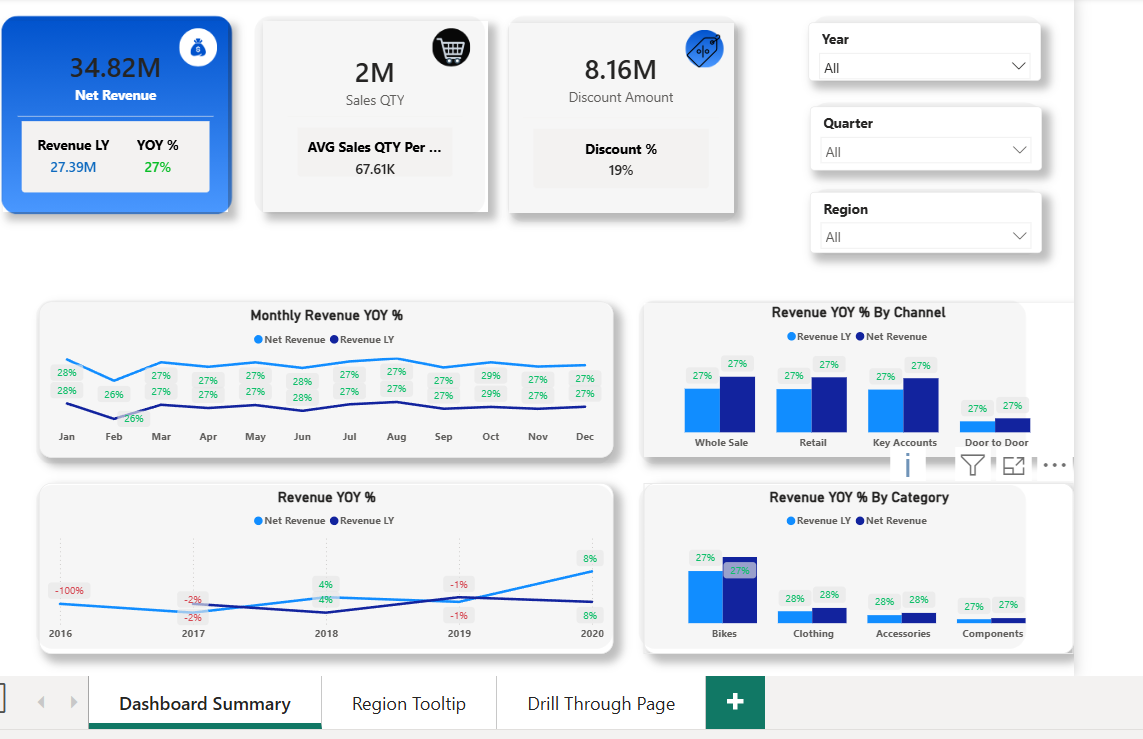

What the dashboard file says about the page in this screenshot:
{"tool":"powerbi","page":{"name":"Dashboard Summary","canvas":[1280,800],"ordinal":0},"visuals":[{"type":"cardVisual","fields":{"Data":["MeasureT.Net Revenue"]},"box":[17.7,28.3,265.1,224.5],"z":0},{"type":"cardVisual","fields":{"Data":["MeasureT.Sales QTY"]},"box":[323.4,28.3,265,224.5],"z":1000},{"type":"cardVisual","fields":{"Data":["MeasureT.Discount Amount"]},"box":[613.3,30,265.1,224.5],"z":2000},{"type":"lineChart","title":"Monthly Revenue YOY %","fields":{"Category":["Dim Date.Month"],"Y":["MeasureT.Net Revenue","MeasureT.Revenue LY"]},"box":[60.1,358.8,676.9,183.8],"z":3000},{"type":"slicer","title":"Year","fields":{"Values":["Dim Date.Year"]},"box":[966.7,30,273.9,68.9],"z":4000},{"type":"lineChart","title":"Revenue YOY %","fields":{"Y":["MeasureT.Net Revenue","MeasureT.Revenue LY"],"Category":["Dim Date.Year"]},"box":[60.1,572.6,676.9,201.5],"z":5000},{"type":"clusteredColumnChart","title":" Revenue YOY % By Channel","fields":{"Category":["Dim Channel.Channel"],"Y":["MeasureT.Revenue LY","MeasureT.Net Revenue"]},"box":[772.3,360.5,507.2,182],"z":6000},{"type":"clusteredColumnChart","title":" Revenue YOY % By Category","fields":{"Y":["MeasureT.Revenue LY","MeasureT.Net Revenue"],"Category":["Dim Product.Category"]},"box":[772.3,572.6,507.2,201.5],"z":7000},{"type":"slicer","fields":{"Values":["Dim Date.Quarter"]},"box":[968.3,128.3,273.3,75],"z":8000},{"type":"slicer","fields":{"Values":["Dim Region.Region"]},"box":[968.3,230,273.3,71.7],"z":9000},{"type":"image","box":[528.4,44.2,33.6,38.9],"z":10000},{"type":"image","box":[820,44.2,46,38.9],"z":11000}]}

Visuals, with their boxes on the page's 1280x800 design canvas (x1, y1, x2, y2). These are canvas units, not pixel positions in the 1143x739 screenshot, which may show the page scaled, cropped or inside an application window:
cardVisual - MeasureT.Net Revenue: select_region(18, 28, 283, 253)
cardVisual - MeasureT.Sales QTY: select_region(323, 28, 588, 253)
cardVisual - MeasureT.Discount Amount: select_region(613, 30, 878, 254)
"Monthly Revenue YOY %" lineChart: select_region(60, 359, 737, 543)
"Year" slicer: select_region(967, 30, 1241, 99)
"Revenue YOY %" lineChart: select_region(60, 573, 737, 774)
" Revenue YOY % By Channel" clusteredColumnChart: select_region(772, 360, 1280, 542)
" Revenue YOY % By Category" clusteredColumnChart: select_region(772, 573, 1280, 774)
slicer - Dim Date.Quarter: select_region(968, 128, 1242, 203)
slicer - Dim Region.Region: select_region(968, 230, 1242, 302)
image: select_region(528, 44, 562, 83)
image: select_region(820, 44, 866, 83)
